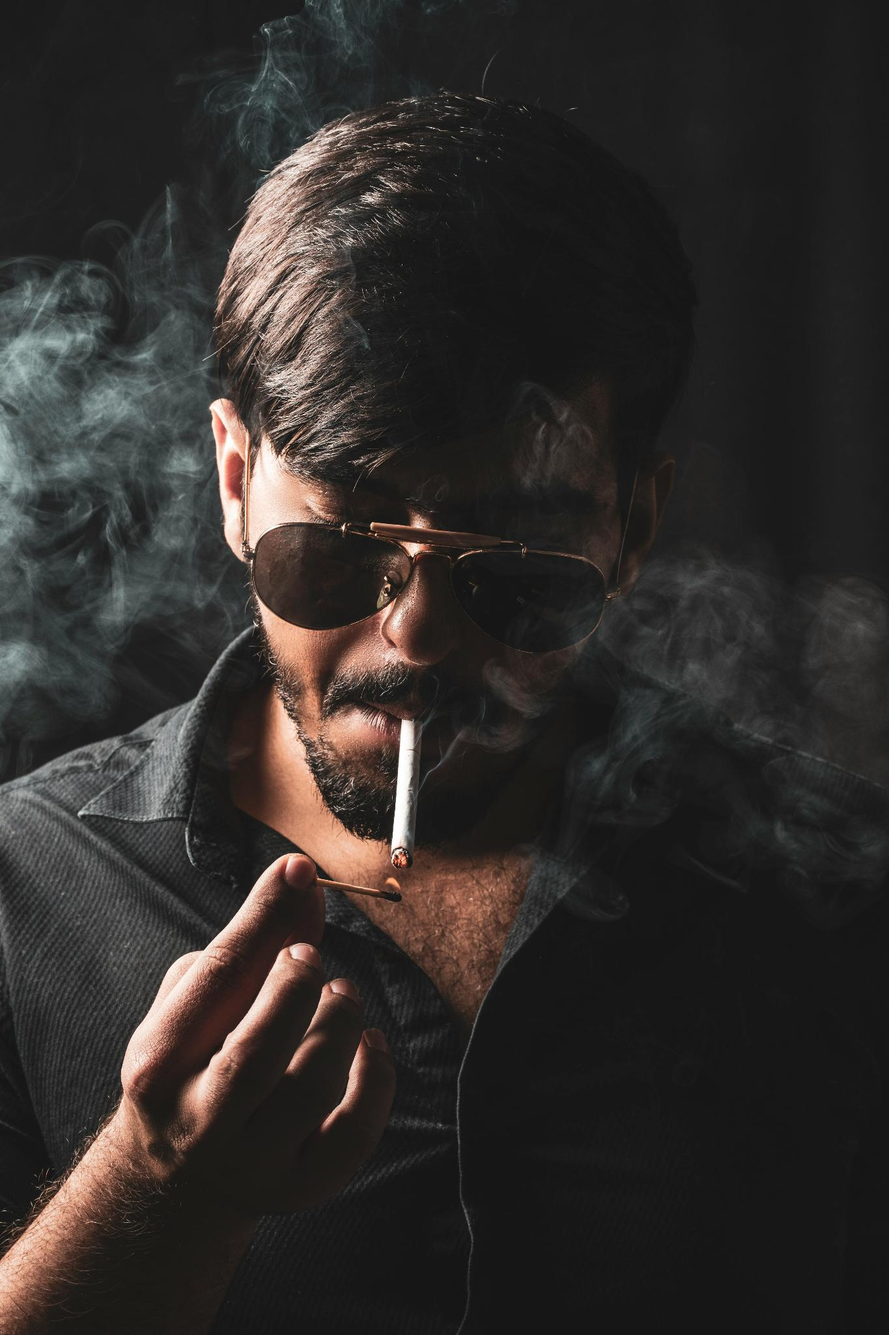cigarette: (391, 719, 422, 869)
